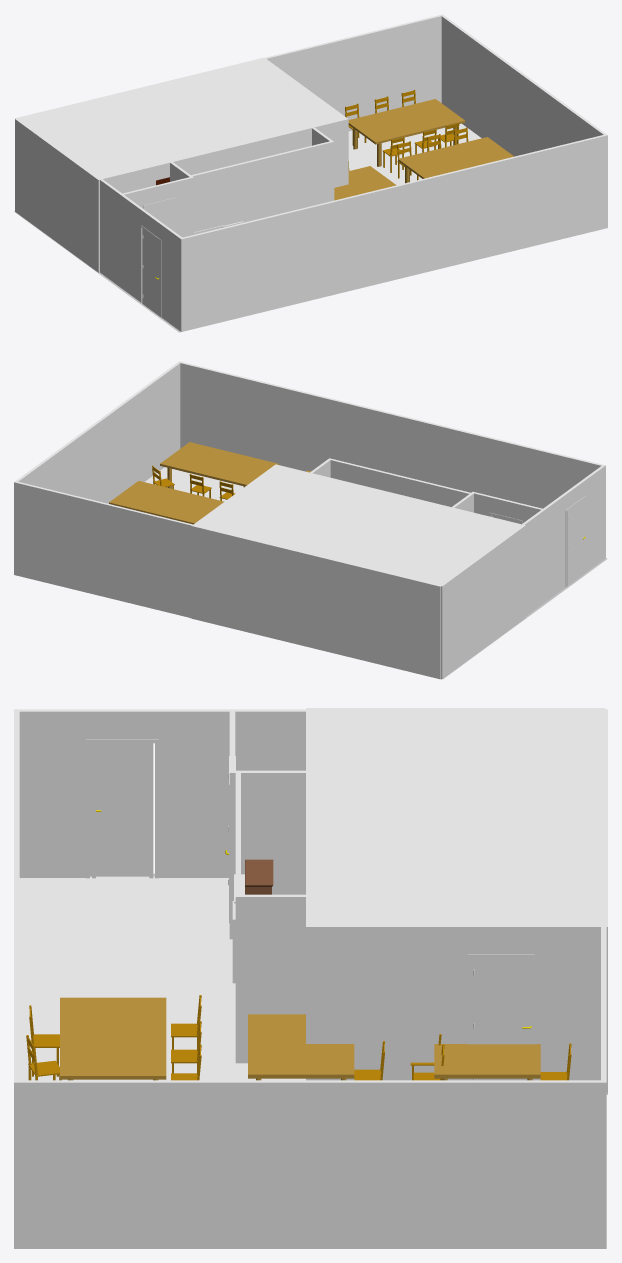
The model's file is school-campus.glb.
3 views of the same model, one above another, from view 1: azimuth 30°, elevation 25°; view 2: azimuth 150°, elevation 25°; view 3: azimuth 270°, elevation 25° (orthographic). The views are drawn at different scales.
Visible parts, largest first — view 1: bagno, Mensa; view 2: bagno, Mensa; view 3: bagno, Mensa, sala preside.
Part boxes in pixels (x1=…): bagno: x1=14, y1=14, x2=607, y2=332; Mensa: x1=156, y1=99, x2=513, y2=200; bagno: x1=14, y1=361, x2=607, y2=679; Mensa: x1=109, y1=442, x2=310, y2=524; bagno: x1=14, y1=708, x2=607, y2=1248; Mensa: x1=60, y1=997, x2=540, y2=1080; sala preside: x1=245, y1=859, x2=273, y2=894.
Size of the model in its own units: 1210 by 250 by 810.
17 materials, 17 textured.
